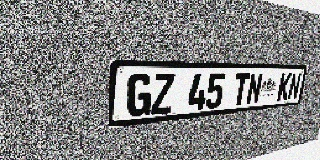4: (187, 73, 209, 111)
5: (205, 73, 226, 109)
G: (126, 74, 153, 118)
K: (277, 73, 292, 101)
N: (246, 73, 263, 105), (287, 73, 302, 100)
T: (232, 73, 250, 106)
Z: (151, 73, 175, 115)
